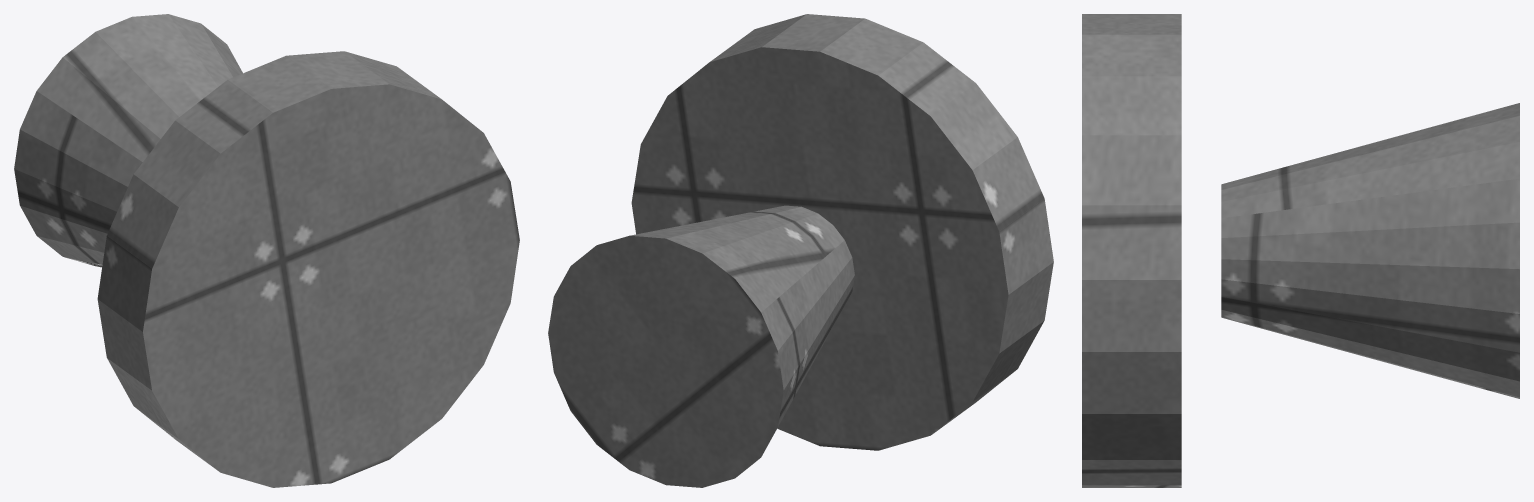
File: attach_9.glb
3 views of the same model, side by side, from view 1: azimuth 30°, elevation 25°; view 2: azimuth 150°, elevation 25°; view 3: azimuth 270°, elevation 25° (orthographic). The views are drawn at different scales.
Parts seen in each view (by area): view 1: attach_9; view 2: attach_9; view 3: attach_9.
Boxes of the visible parts, x1,y1,x2,y2 form: attach_9: [14, 14, 519, 487]; attach_9: [548, 14, 1053, 487]; attach_9: [1082, 14, 1519, 487].
Bounding box in the file's own units: 0.48 × 0.48 × 0.44.
Materials: 1 (1 with a texture image).
